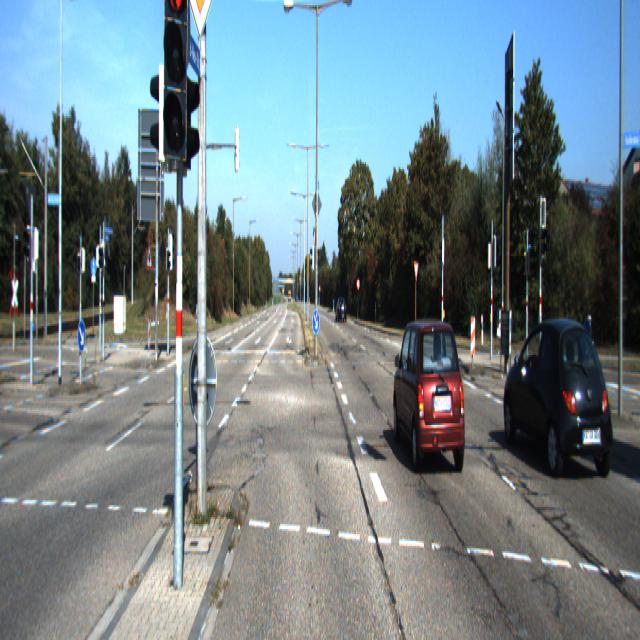Car: (502, 312, 614, 485), (393, 316, 468, 481)
